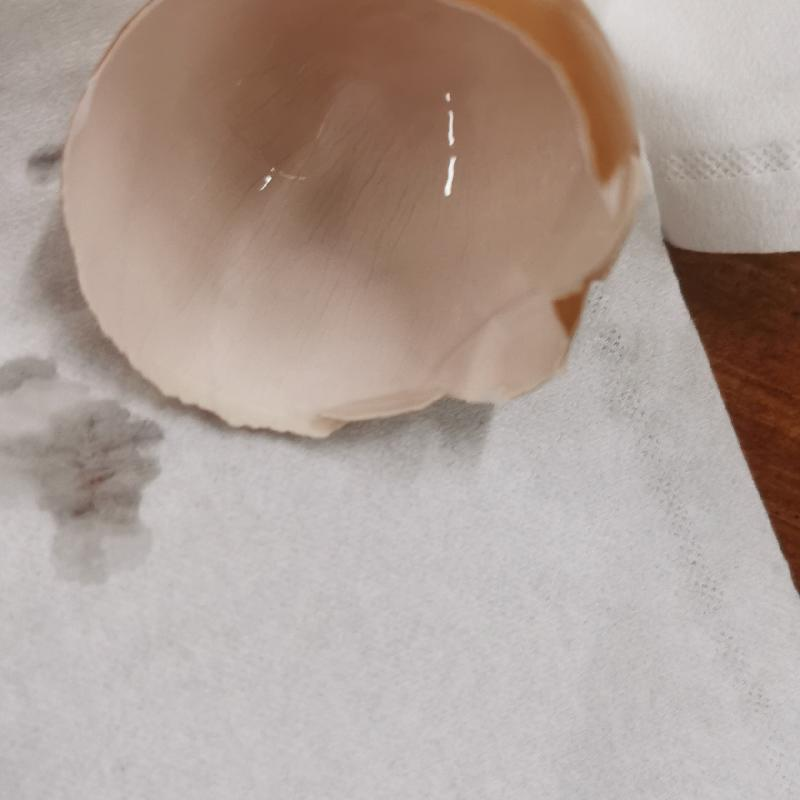eggshell: (60, 1, 643, 445)
